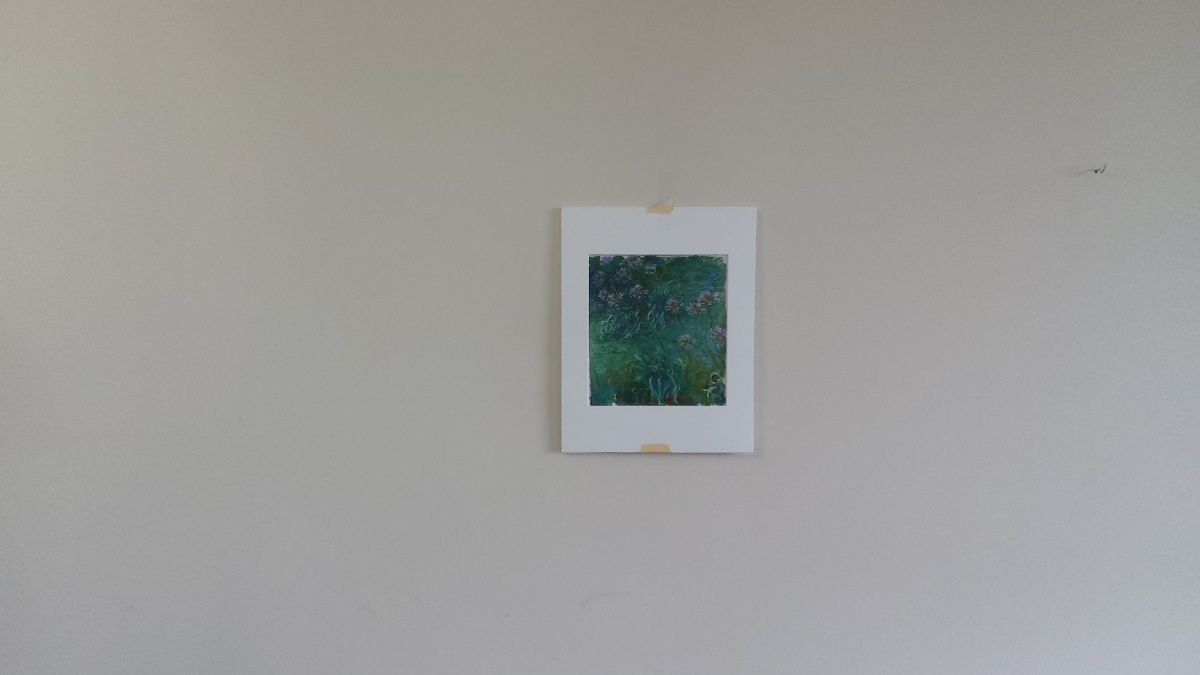painting: (582, 250, 735, 416)
